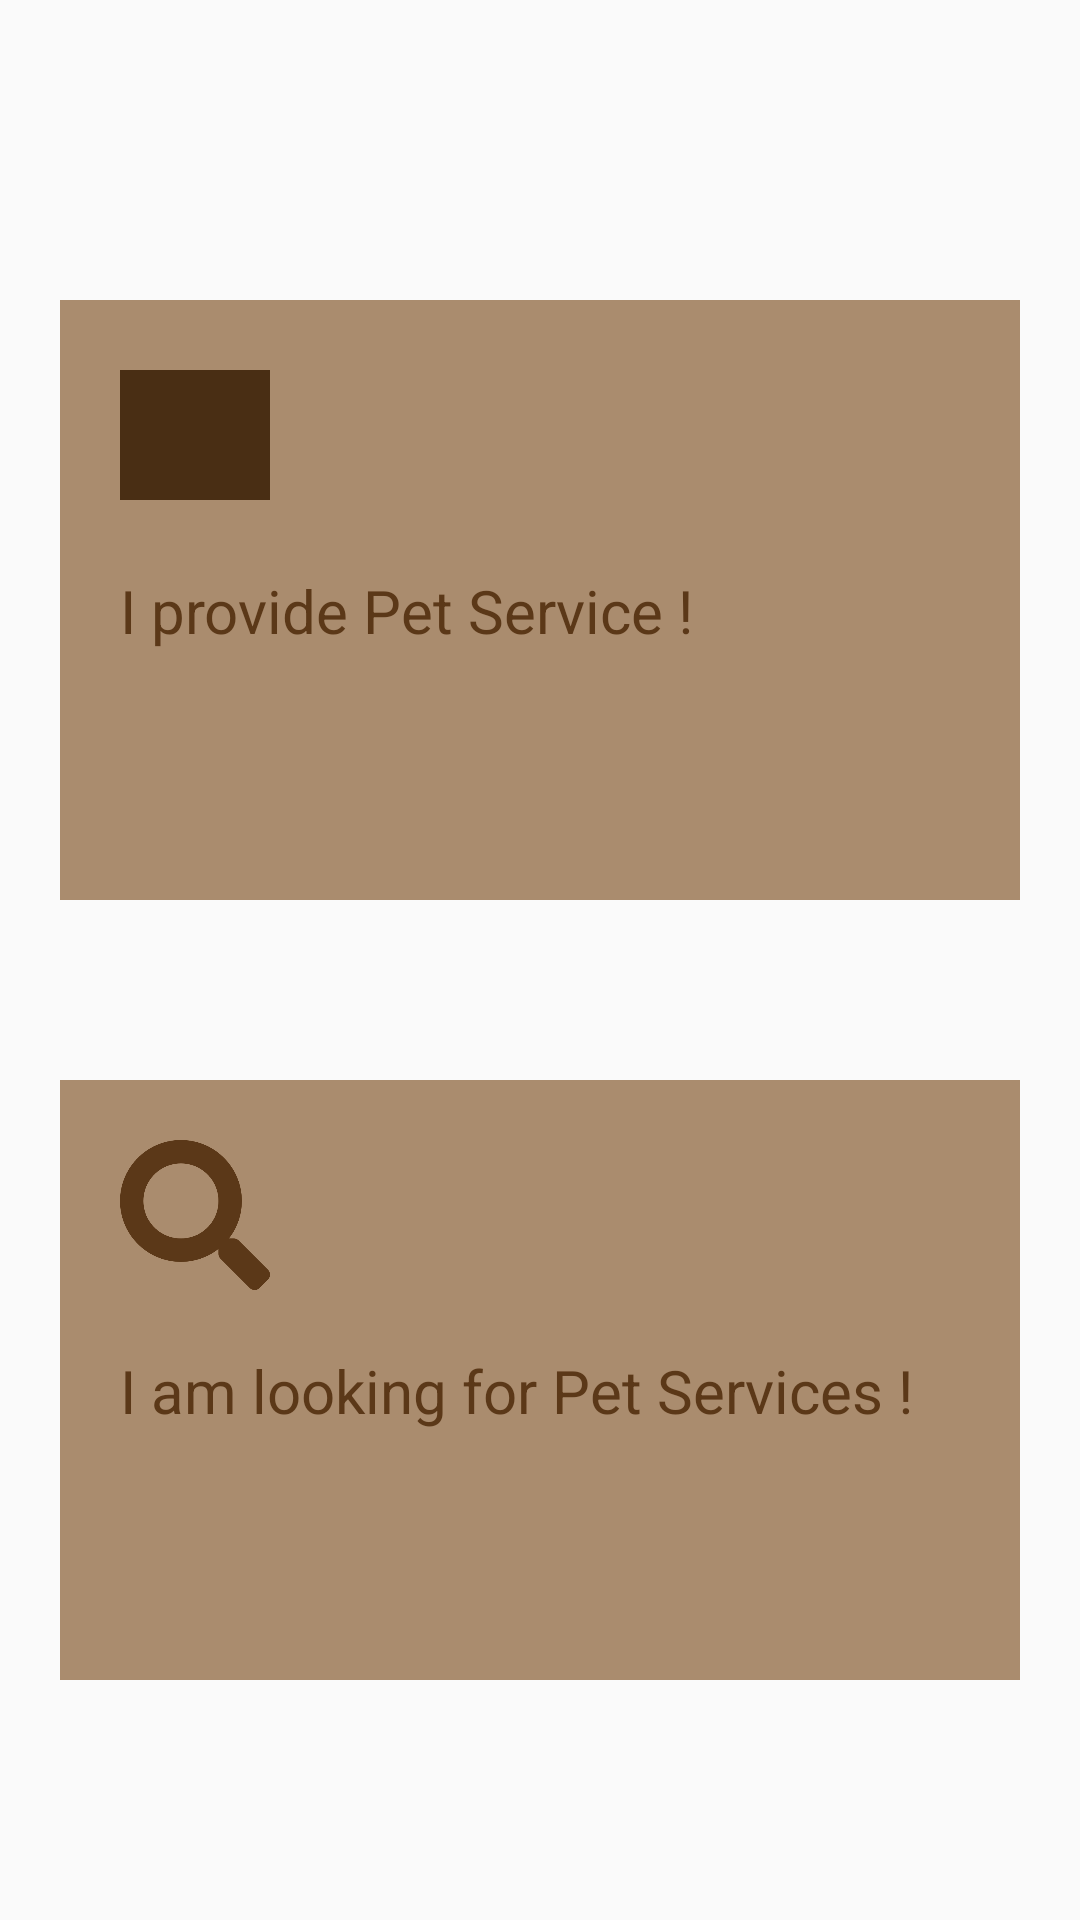

Icon click points for this 1080×1920 phone screenshot, format point (x, y):
search: point (195, 1215)
